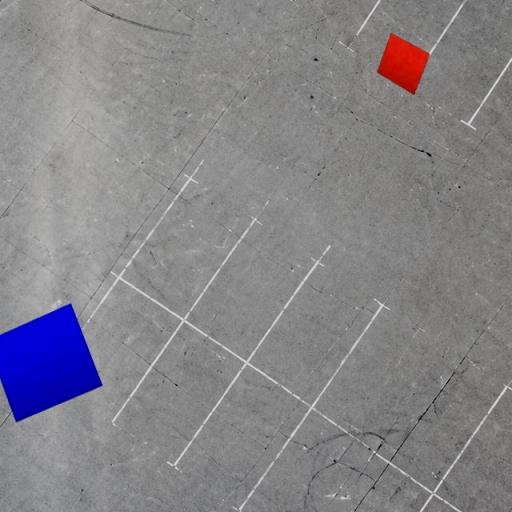BLUE_SQUARE: (0, 302, 104, 424)
RED_SQUARE: (376, 33, 431, 95)
